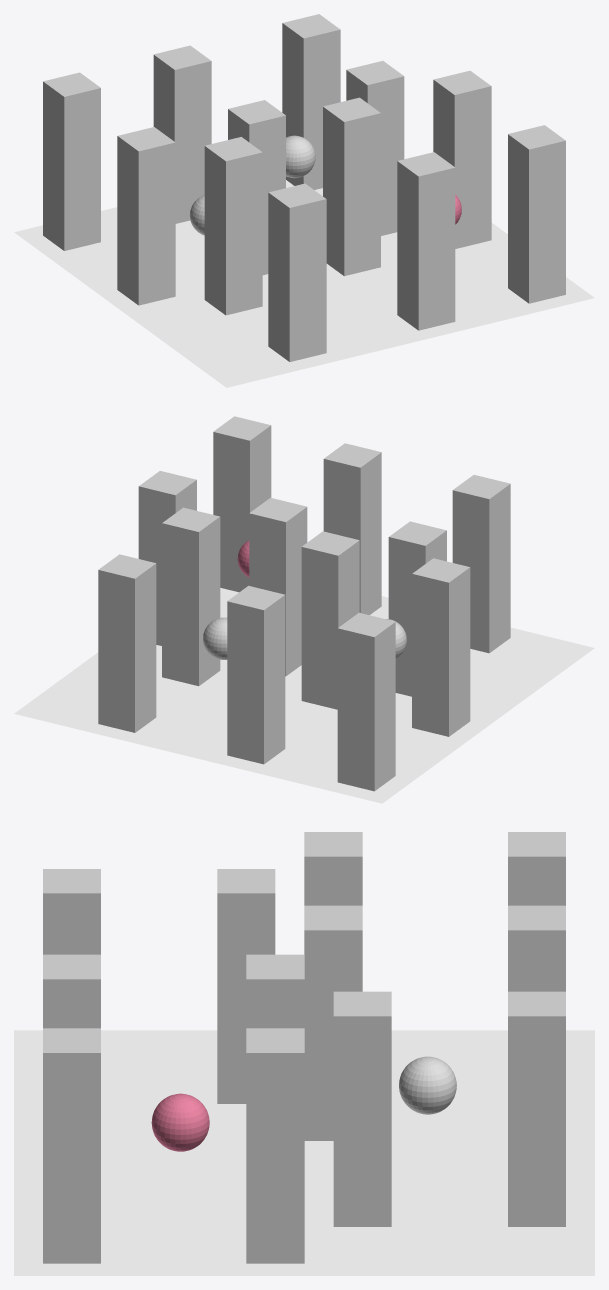
The model's file is level0.glb.
3 views of the same model, one above another, from view 1: azimuth 30°, elevation 25°; view 2: azimuth 150°, elevation 25°; view 3: azimuth 270°, elevation 25° (orthographic). The views are drawn at different scales.
Visible parts, largest first — view 1: Plane, Cube.006, Cube.002, Cube.008, Cube.009, Cube, Cube.007, Cube.004, Cube.005, Cube.001, Cube.011, Cube.010 (+2 smaller); view 2: Plane, Cube, Cube.011, Cube.001, Cube.002, Cube.010, Cube.008, Cube.003, Cube.007, Cube.006, Cube.004, Cube.009 (+2 smaller); view 3: Plane, Cube.005, Cube.010, Cube.007, Cube.011, Cube.003, Cube.009, Cube.001, Cube.008, Cube.004, Cube.002, Cube.006 (+3 smaller).
Part boxes in pixels (left/top/right/bottom): Plane: left=14, top=159, right=594, bottom=387; Cube.006: left=397, top=152, right=455, bottom=330; Cube.002: left=117, top=127, right=175, bottom=305; Cube.008: left=268, top=183, right=326, bottom=361; Cube.009: left=204, top=137, right=262, bottom=315; Cube: left=43, top=72, right=100, bottom=250; Cube.007: left=508, top=125, right=565, bottom=303; Cube.004: left=323, top=97, right=380, bottom=276; Cube.005: left=433, top=70, right=491, bottom=248; Cube.001: left=153, top=45, right=211, bottom=223; Cube.011: left=282, top=14, right=340, bottom=189; Cube.010: left=346, top=61, right=404, bottom=235; Plane: left=14, top=588, right=594, bottom=803; Cube: left=337, top=612, right=395, bottom=791; Cube.011: left=98, top=554, right=156, bottom=732; Cube.001: left=227, top=585, right=285, bottom=764; Cube.002: left=412, top=558, right=470, bottom=736; Cube.010: left=162, top=507, right=220, bottom=686; Cube.008: left=452, top=475, right=510, bottom=653; Cube.003: left=301, top=531, right=359, bottom=709; Cube.007: left=213, top=416, right=271, bottom=592; Cube.006: left=323, top=443, right=381, bottom=615; Cube.004: left=249, top=497, right=307, bottom=676; Cube.009: left=388, top=521, right=446, bottom=696; Plane: left=14, top=1030, right=594, bottom=1275; Cube.005: left=246, top=1028, right=304, bottom=1263; Cube.010: left=333, top=991, right=391, bottom=1226; Cube.007: left=43, top=1028, right=100, bottom=1263; Cube.011: left=508, top=991, right=565, bottom=1226; Cube.003: left=304, top=905, right=362, bottom=1140; Cube.009: left=217, top=869, right=275, bottom=1103; Cube.001: left=508, top=905, right=565, bottom=991; Cube.008: left=43, top=869, right=100, bottom=954; Cube.004: left=246, top=954, right=304, bottom=1028; Cube.002: left=304, top=832, right=362, bottom=905; Cube.006: left=43, top=954, right=100, bottom=1028.
Size of the model in its own units: 20 by 8 by 20.
Materials: 2 (1 with a texture image).
